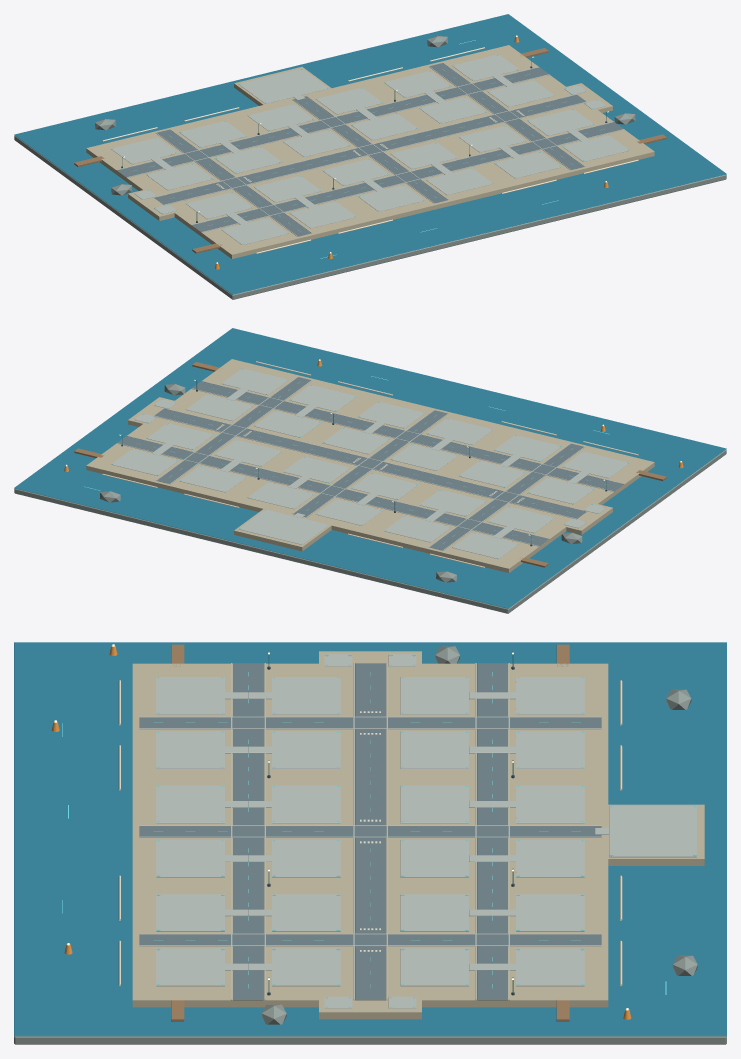
File: ground.glb
3 views of the same model, one above another, from view 1: azimuth 30°, elevation 25°; view 2: azimuth 150°, elevation 25°; view 3: azimuth 270°, elevation 25° (orthographic). The views are drawn at different scales.
Visible parts, largest first — view 1: planet_ocean__Terrain, planet_ocean__Roads; view 2: planet_ocean__Terrain, planet_ocean__Roads; view 3: planet_ocean__Terrain, planet_ocean__Roads.
Boxes of the visible parts, x1,y1,x2,y2 form: planet_ocean__Terrain: [14, 14, 726, 299]; planet_ocean__Roads: [111, 54, 629, 244]; planet_ocean__Terrain: [14, 328, 726, 613]; planet_ocean__Roads: [111, 368, 629, 558]; planet_ocean__Terrain: [14, 642, 726, 1044]; planet_ocean__Roads: [139, 654, 696, 1008].
Bounding box in the file's own units: 145 × 5.9 × 111.
